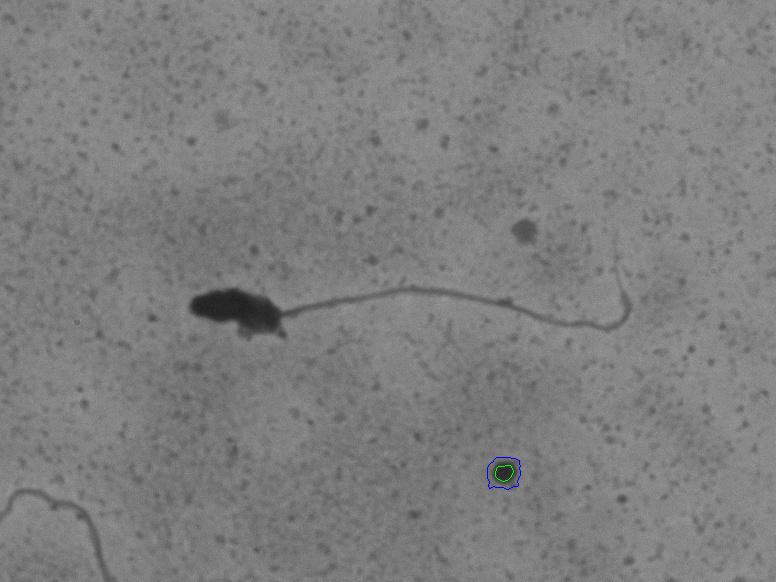Abnormal: (132, 203, 664, 421)
